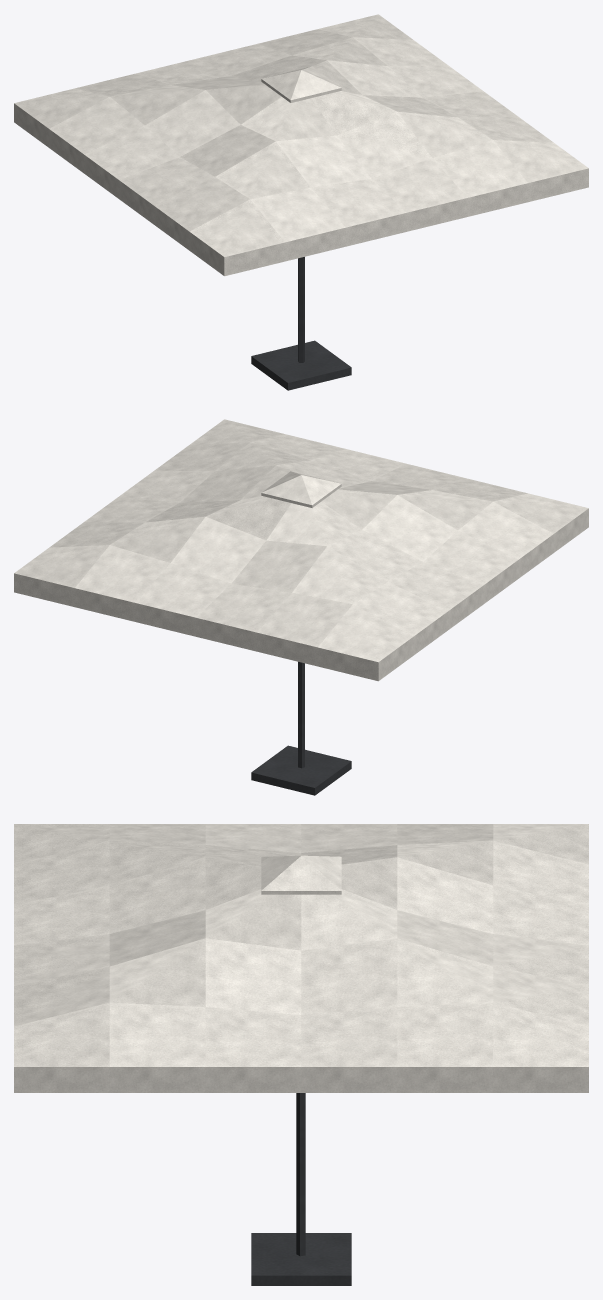
Rendered from SM_Morin_Ombrellone_LOD1.fbx.
3 views of the same model, one above another, from view 1: azimuth 30°, elevation 25°; view 2: azimuth 150°, elevation 25°; view 3: azimuth 270°, elevation 25° (orthographic). The views are drawn at different scales.
Parts seen in each view (by area): view 1: SM_Morin_Ombrellone_LOD1; view 2: SM_Morin_Ombrellone_LOD1; view 3: SM_Morin_Ombrellone_LOD1.
Part boxes in pixels (x1,y1,x2,y2): SM_Morin_Ombrellone_LOD1: [14, 14, 588, 390]; SM_Morin_Ombrellone_LOD1: [14, 419, 588, 795]; SM_Morin_Ombrellone_LOD1: [14, 824, 588, 1285].
Bounding box in the file's own units: 400 × 400 × 314.
1 material, 1 textured.
